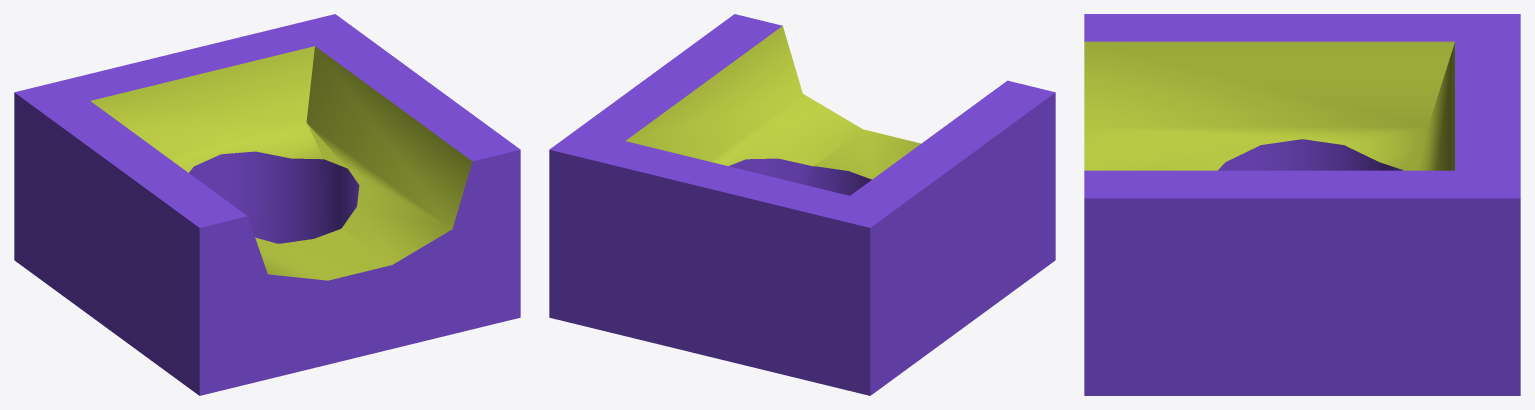
File: end_hole_square-col.dae
3 views of the same model, side by side, from view 1: azimuth 30°, elevation 25°; view 2: azimuth 150°, elevation 25°; view 3: azimuth 270°, elevation 25° (orthographic). The views are drawn at different scales.
Visible parts, largest first — view 1: end_hole_square-col; view 2: end_hole_square-col; view 3: end_hole_square-col.
Boxes of the visible parts, bbox=[...] form: end_hole_square-col: bbox=[14, 14, 520, 395]; end_hole_square-col: bbox=[549, 14, 1055, 395]; end_hole_square-col: bbox=[1084, 14, 1520, 395].
Bounding box in the file's own units: 1 × 1 × 0.5.
